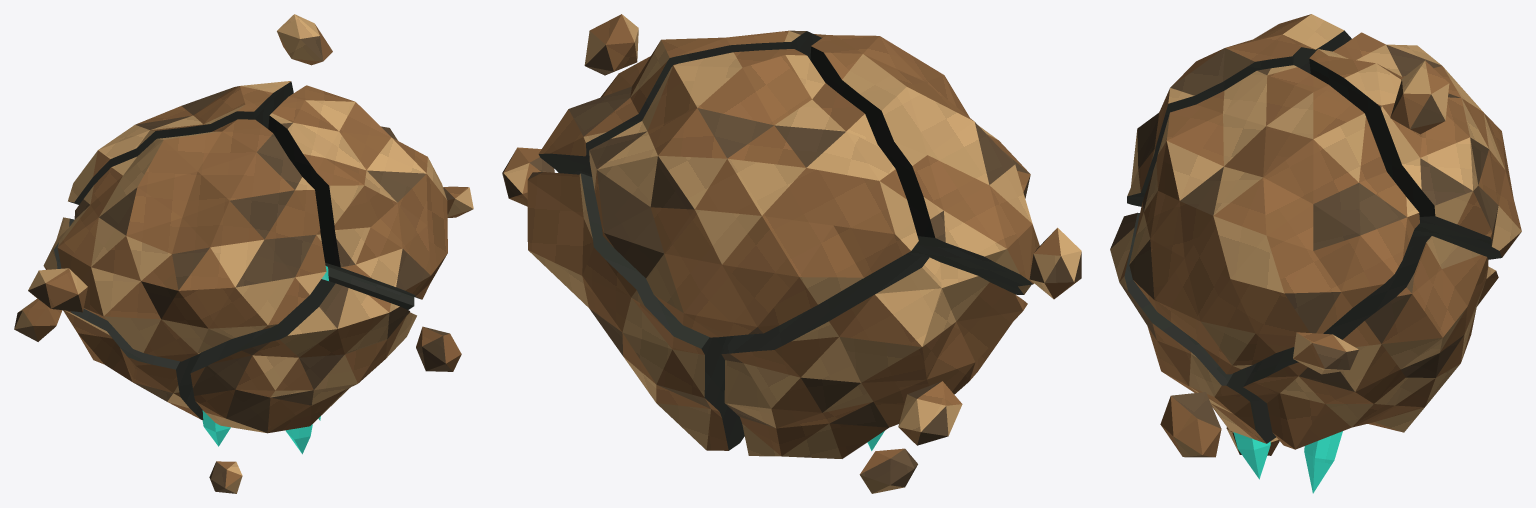
The model's file is floating_rock.glb.
The picture shows the model from 3 angles, left to right: view 1: azimuth 30°, elevation 25°; view 2: azimuth 150°, elevation 25°; view 3: azimuth 270°, elevation 25°; orthographic projection. The views are drawn at different scales.
Parts seen in each view (by area): view 1: RockChunk1, RockChunk2, RockChunk6, RockChunk3, RockChunk4, FloatingFragment1, FloatingFragment6, FloatingFragment4, FloatingFragment3, RockChunk5, FloatingFragment5, FloatingFragment2; view 2: RockChunk3, RockChunk4, RockChunk1, RockChunk5, RockChunk2, FloatingFragment3, FloatingFragment1, FloatingFragment6, FloatingFragment5, FloatingFragment2; view 3: RockChunk2, RockChunk5, RockChunk3, RockChunk1, RockChunk6, FloatingFragment4, FloatingFragment6, FloatingFragment2, Crystal3, Crystal2.
Boxes of the visible parts, x1,y1,x2,y2 form: RockChunk1: (57, 119, 326, 361); RockChunk2: (268, 85, 447, 299); RockChunk6: (190, 279, 416, 433); RockChunk3: (68, 81, 293, 204); RockChunk4: (43, 217, 203, 420); FloatingFragment1: (28, 268, 87, 312); FloatingFragment6: (277, 14, 332, 65); FloatingFragment4: (416, 326, 461, 371); FloatingFragment3: (14, 298, 62, 341); RockChunk5: (328, 267, 414, 309); FloatingFragment5: (209, 461, 242, 493); FloatingFragment2: (443, 186, 473, 217); RockChunk3: (589, 49, 918, 337); RockChunk4: (721, 254, 1027, 458); RockChunk1: (810, 35, 1039, 294); RockChunk5: (527, 172, 744, 450); RockChunk2: (538, 30, 826, 176); FloatingFragment3: (898, 381, 962, 445); FloatingFragment1: (1029, 227, 1081, 299); FloatingFragment6: (584, 14, 638, 75); FloatingFragment5: (859, 448, 917, 493); FloatingFragment2: (502, 147, 554, 206); RockChunk2: (1129, 65, 1419, 374); RockChunk5: (1243, 236, 1498, 449); RockChunk3: (1309, 32, 1521, 259); RockChunk1: (1127, 14, 1351, 206); RockChunk6: (1110, 212, 1276, 443); FloatingFragment4: (1160, 392, 1221, 457); FloatingFragment6: (1390, 60, 1449, 134); FloatingFragment2: (1293, 332, 1358, 374); Crystal3: (1304, 431, 1342, 493); Crystal2: (1233, 432, 1270, 479).
Bounding box in the file's own units: 1 × 0.8377 × 0.6594.
6 materials, 6 textured.
